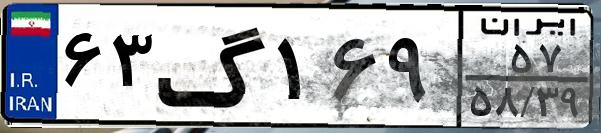1: (270, 28, 330, 110)
3: (110, 28, 156, 98), (535, 70, 560, 125)
5: (508, 27, 537, 80), (470, 70, 495, 125)
6: (330, 28, 385, 110), (57, 26, 110, 100)
7: (537, 27, 568, 80)
8: (495, 70, 520, 125)
9: (385, 28, 445, 110), (560, 70, 590, 125)
گ: (156, 12, 270, 120)
